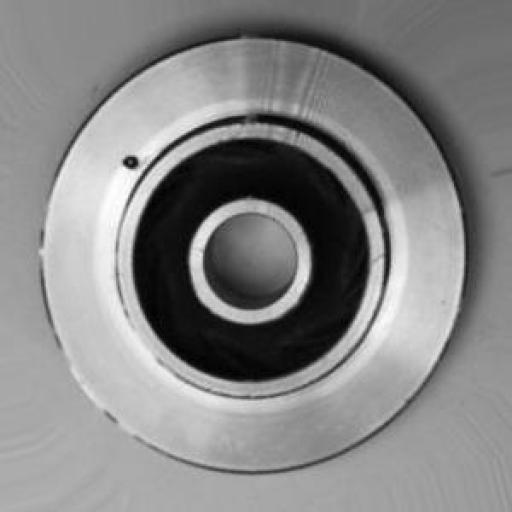defect: (100, 131, 160, 201)
